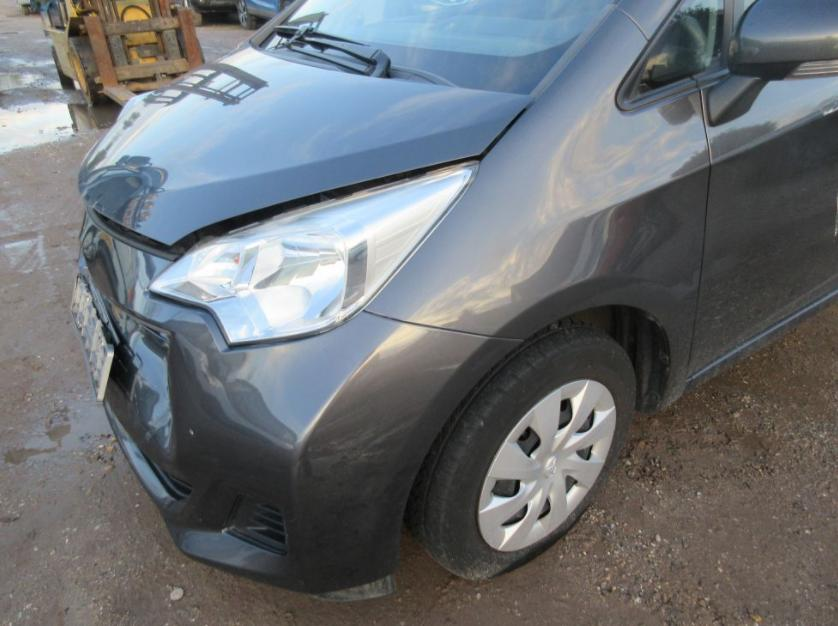Fender: (364, 5, 712, 413), (246, 0, 307, 49)
Front-bumper: (71, 210, 519, 592)
Front-door: (688, 0, 837, 375)
Front-wheel: (405, 322, 633, 580)
Front-window: (631, 0, 723, 98), (734, 0, 752, 31)
Headlight: (147, 160, 479, 344), (118, 92, 153, 121)
Hood: (78, 46, 534, 245)
License-plate: (71, 280, 112, 404)
Mirror: (708, 0, 836, 125)
Rocker-panel: (684, 292, 837, 398)
Windshield: (256, 1, 620, 95)
